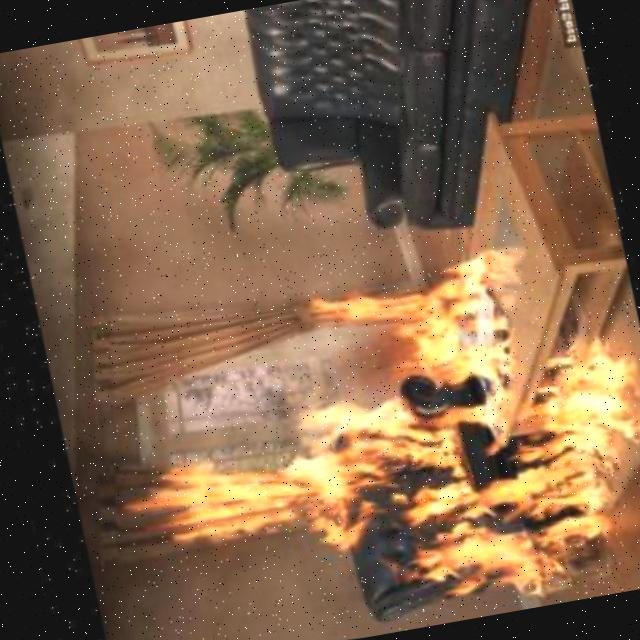fire: (245, 209, 640, 640), (96, 425, 308, 575)
